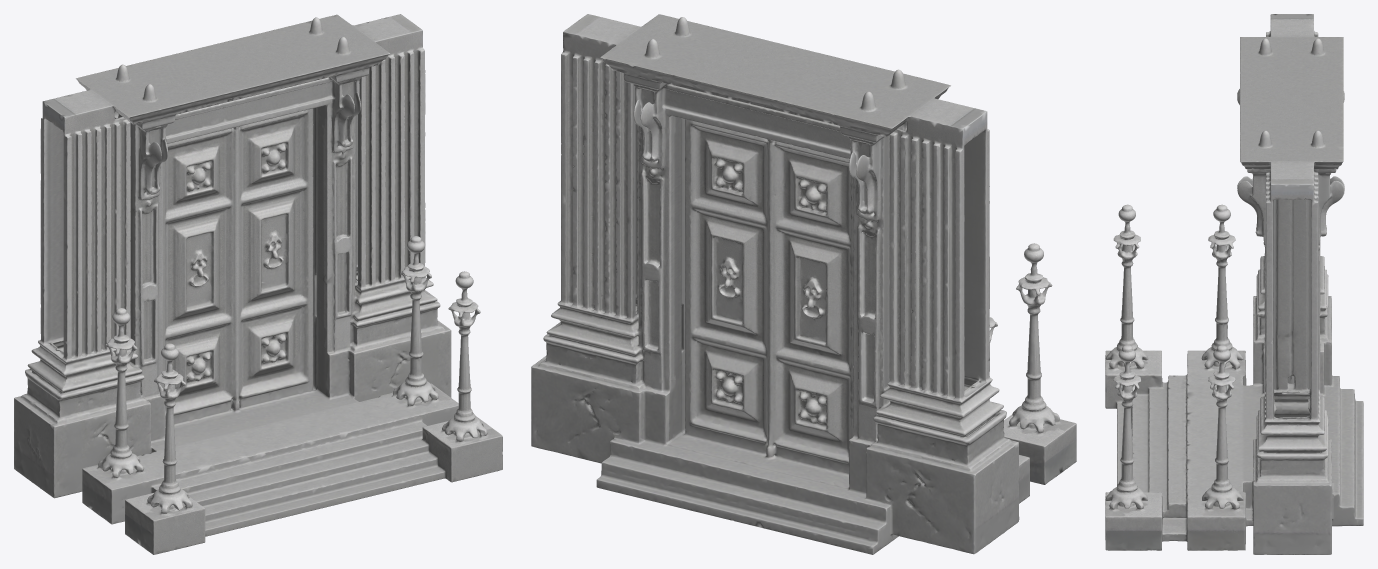
The model's file is Puerta_nueva.glb.
The picture shows the model from 3 angles, left to right: view 1: azimuth 30°, elevation 25°; view 2: azimuth 150°, elevation 25°; view 3: azimuth 270°, elevation 25°; orthographic projection. The views are drawn at different scales.
Visible parts, largest first — view 1: mesh_node; view 2: mesh_node; view 3: mesh_node.
Part boxes in pixels (x1,y1,x2,y2): mesh_node: (14,14,502,554); mesh_node: (531,14,1076,554); mesh_node: (1105,14,1363,554).
Bounding box in the file's own units: 1.9 × 1.79 × 1.09.
Materials: 1 (1 with a texture image).
